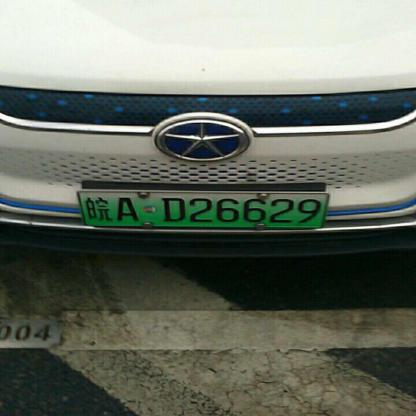lp: (78, 192, 328, 226)
